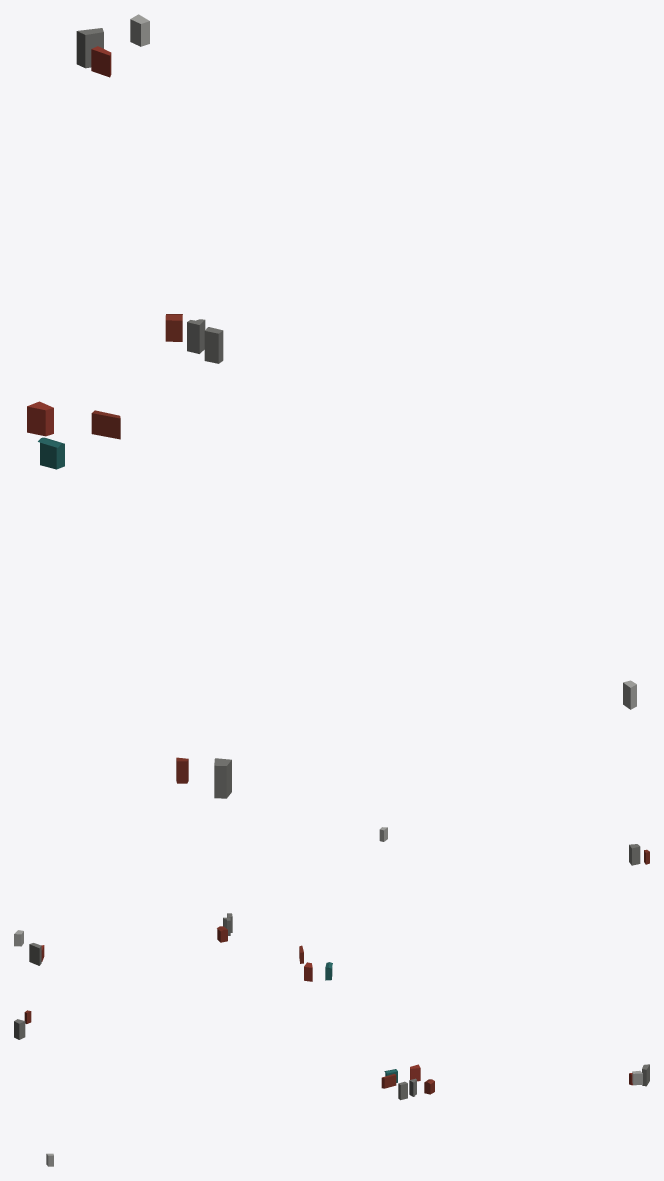
Rendered from near-15-27356-14880.a1bcafc7.glb.
3 renders of one model, top to bottom at view 1: azimuth 30°, elevation 25°; view 2: azimuth 150°, elevation 25°; view 3: azimuth 270°, elevation 25°, orthographic. The views are drawn at different scales.
Bounding box in the file's own units: 467 × 180 × 888.
